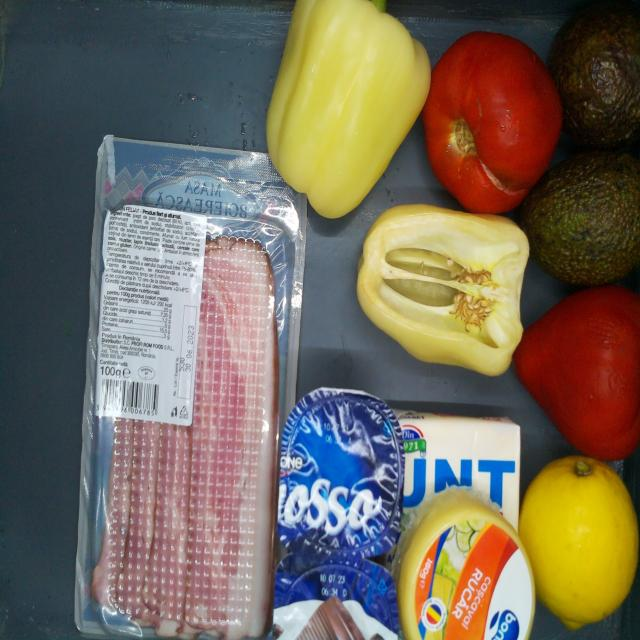avocado: (541, 152, 638, 284), (558, 9, 639, 150)
bacon: (83, 140, 302, 637)
butter: (404, 413, 522, 526)
cheese: (400, 498, 528, 640)
lemon: (522, 462, 639, 628)
pepper: (273, 2, 428, 218), (358, 207, 529, 375)
tomatoes: (429, 35, 561, 216), (515, 289, 640, 457)
yogurt: (278, 387, 402, 556), (277, 556, 400, 640)
